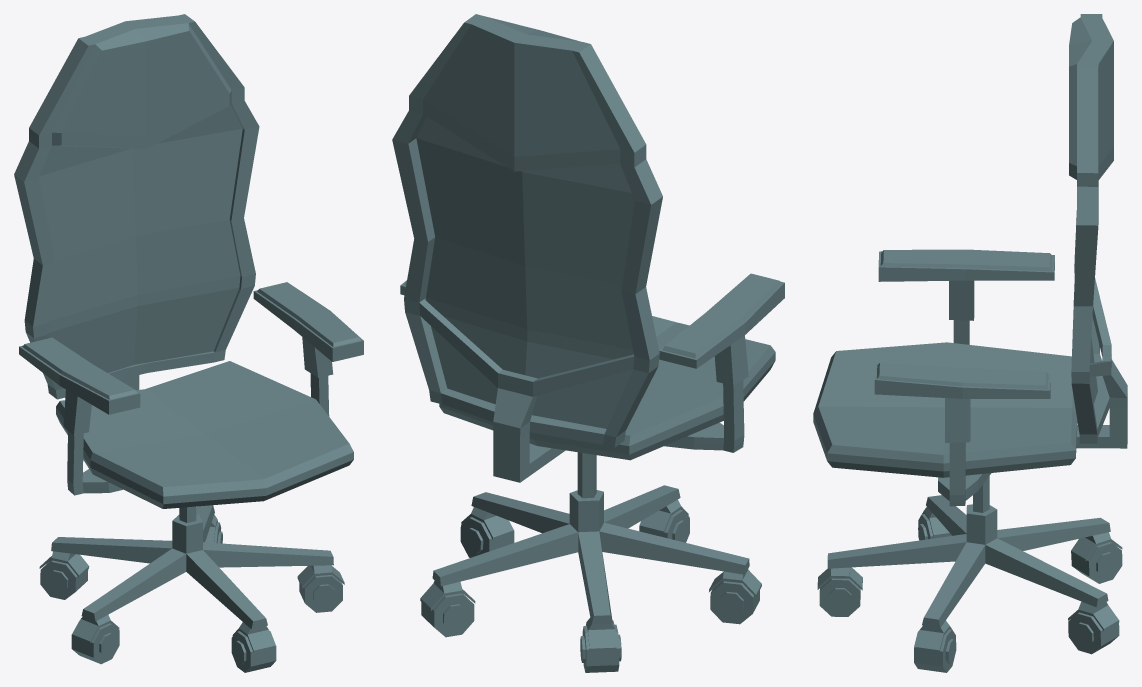
File: SillaProfes.fbx
3 renders of one model, left to right at view 1: azimuth 30°, elevation 25°; view 2: azimuth 150°, elevation 25°; view 3: azimuth 270°, elevation 25°, orthographic. The views are drawn at different scales.
Visible parts, largest first — view 1: SillaProfes; view 2: SillaProfes; view 3: SillaProfes.
Boxes of the visible parts, x1,y1,x2,y2 form: SillaProfes: (14,14,363,672); SillaProfes: (392,14,784,672); SillaProfes: (813,14,1127,672).
Size of the model in its own units: 36.74 by 71.73 by 35.78.
